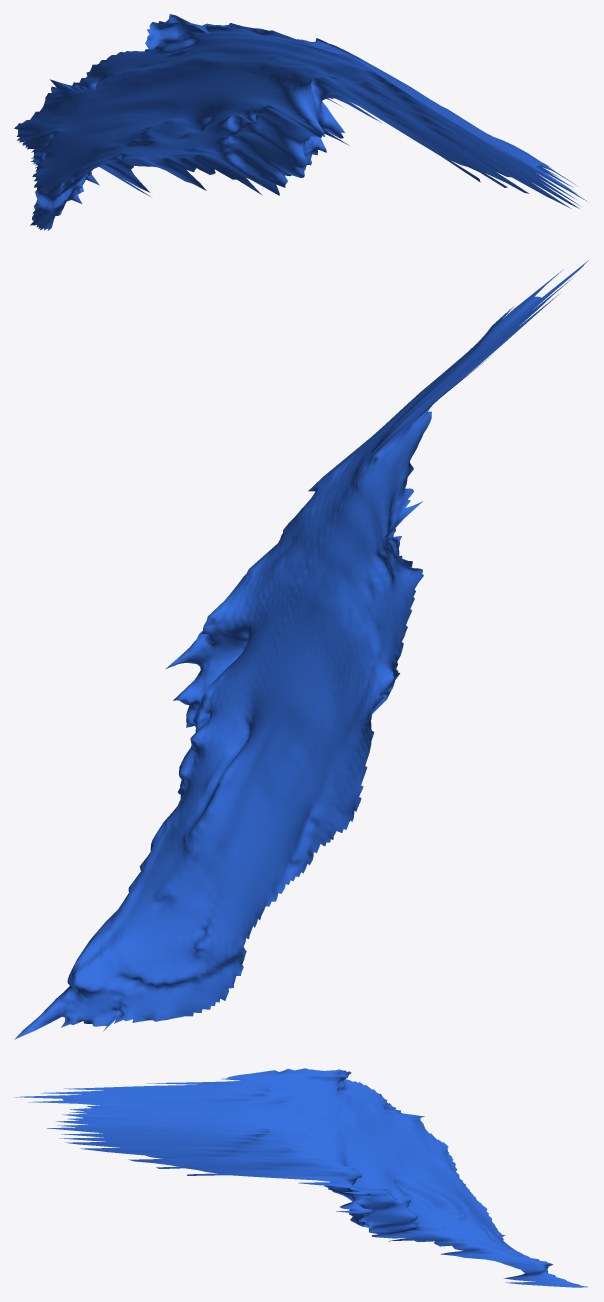
Rendered from igea_SFS.glb.
The picture shows the model from 3 angles, top to bottom: view 1: azimuth 30°, elevation 25°; view 2: azimuth 150°, elevation 25°; view 3: azimuth 270°, elevation 25°; orthographic projection. The views are drawn at different scales.
Parts seen in each view (by area): view 1: main-sfs-igea; view 2: main-sfs-igea; view 3: main-sfs-igea.
Boxes of the visible parts, x1,y1,x2,y2 form: main-sfs-igea: [14, 14, 586, 230]; main-sfs-igea: [14, 260, 588, 1039]; main-sfs-igea: [14, 1068, 588, 1287].
Size of the model in its own units: 0.8 by 1.15 by 3.04.
